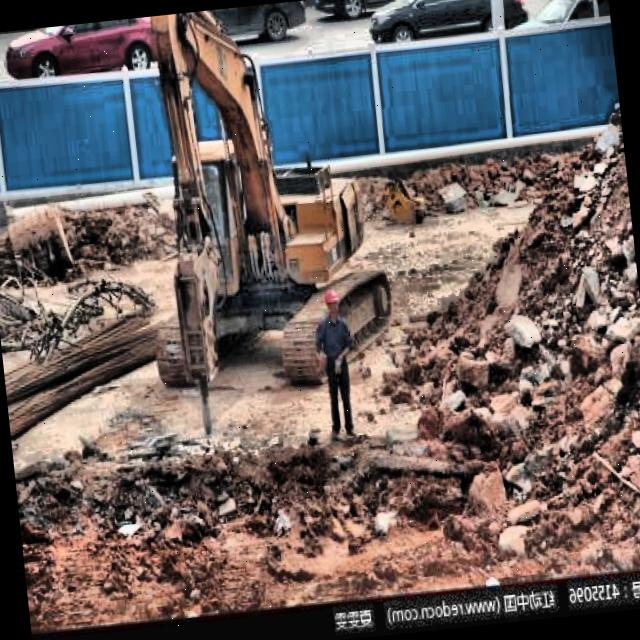helmet: (318, 282, 347, 322)
